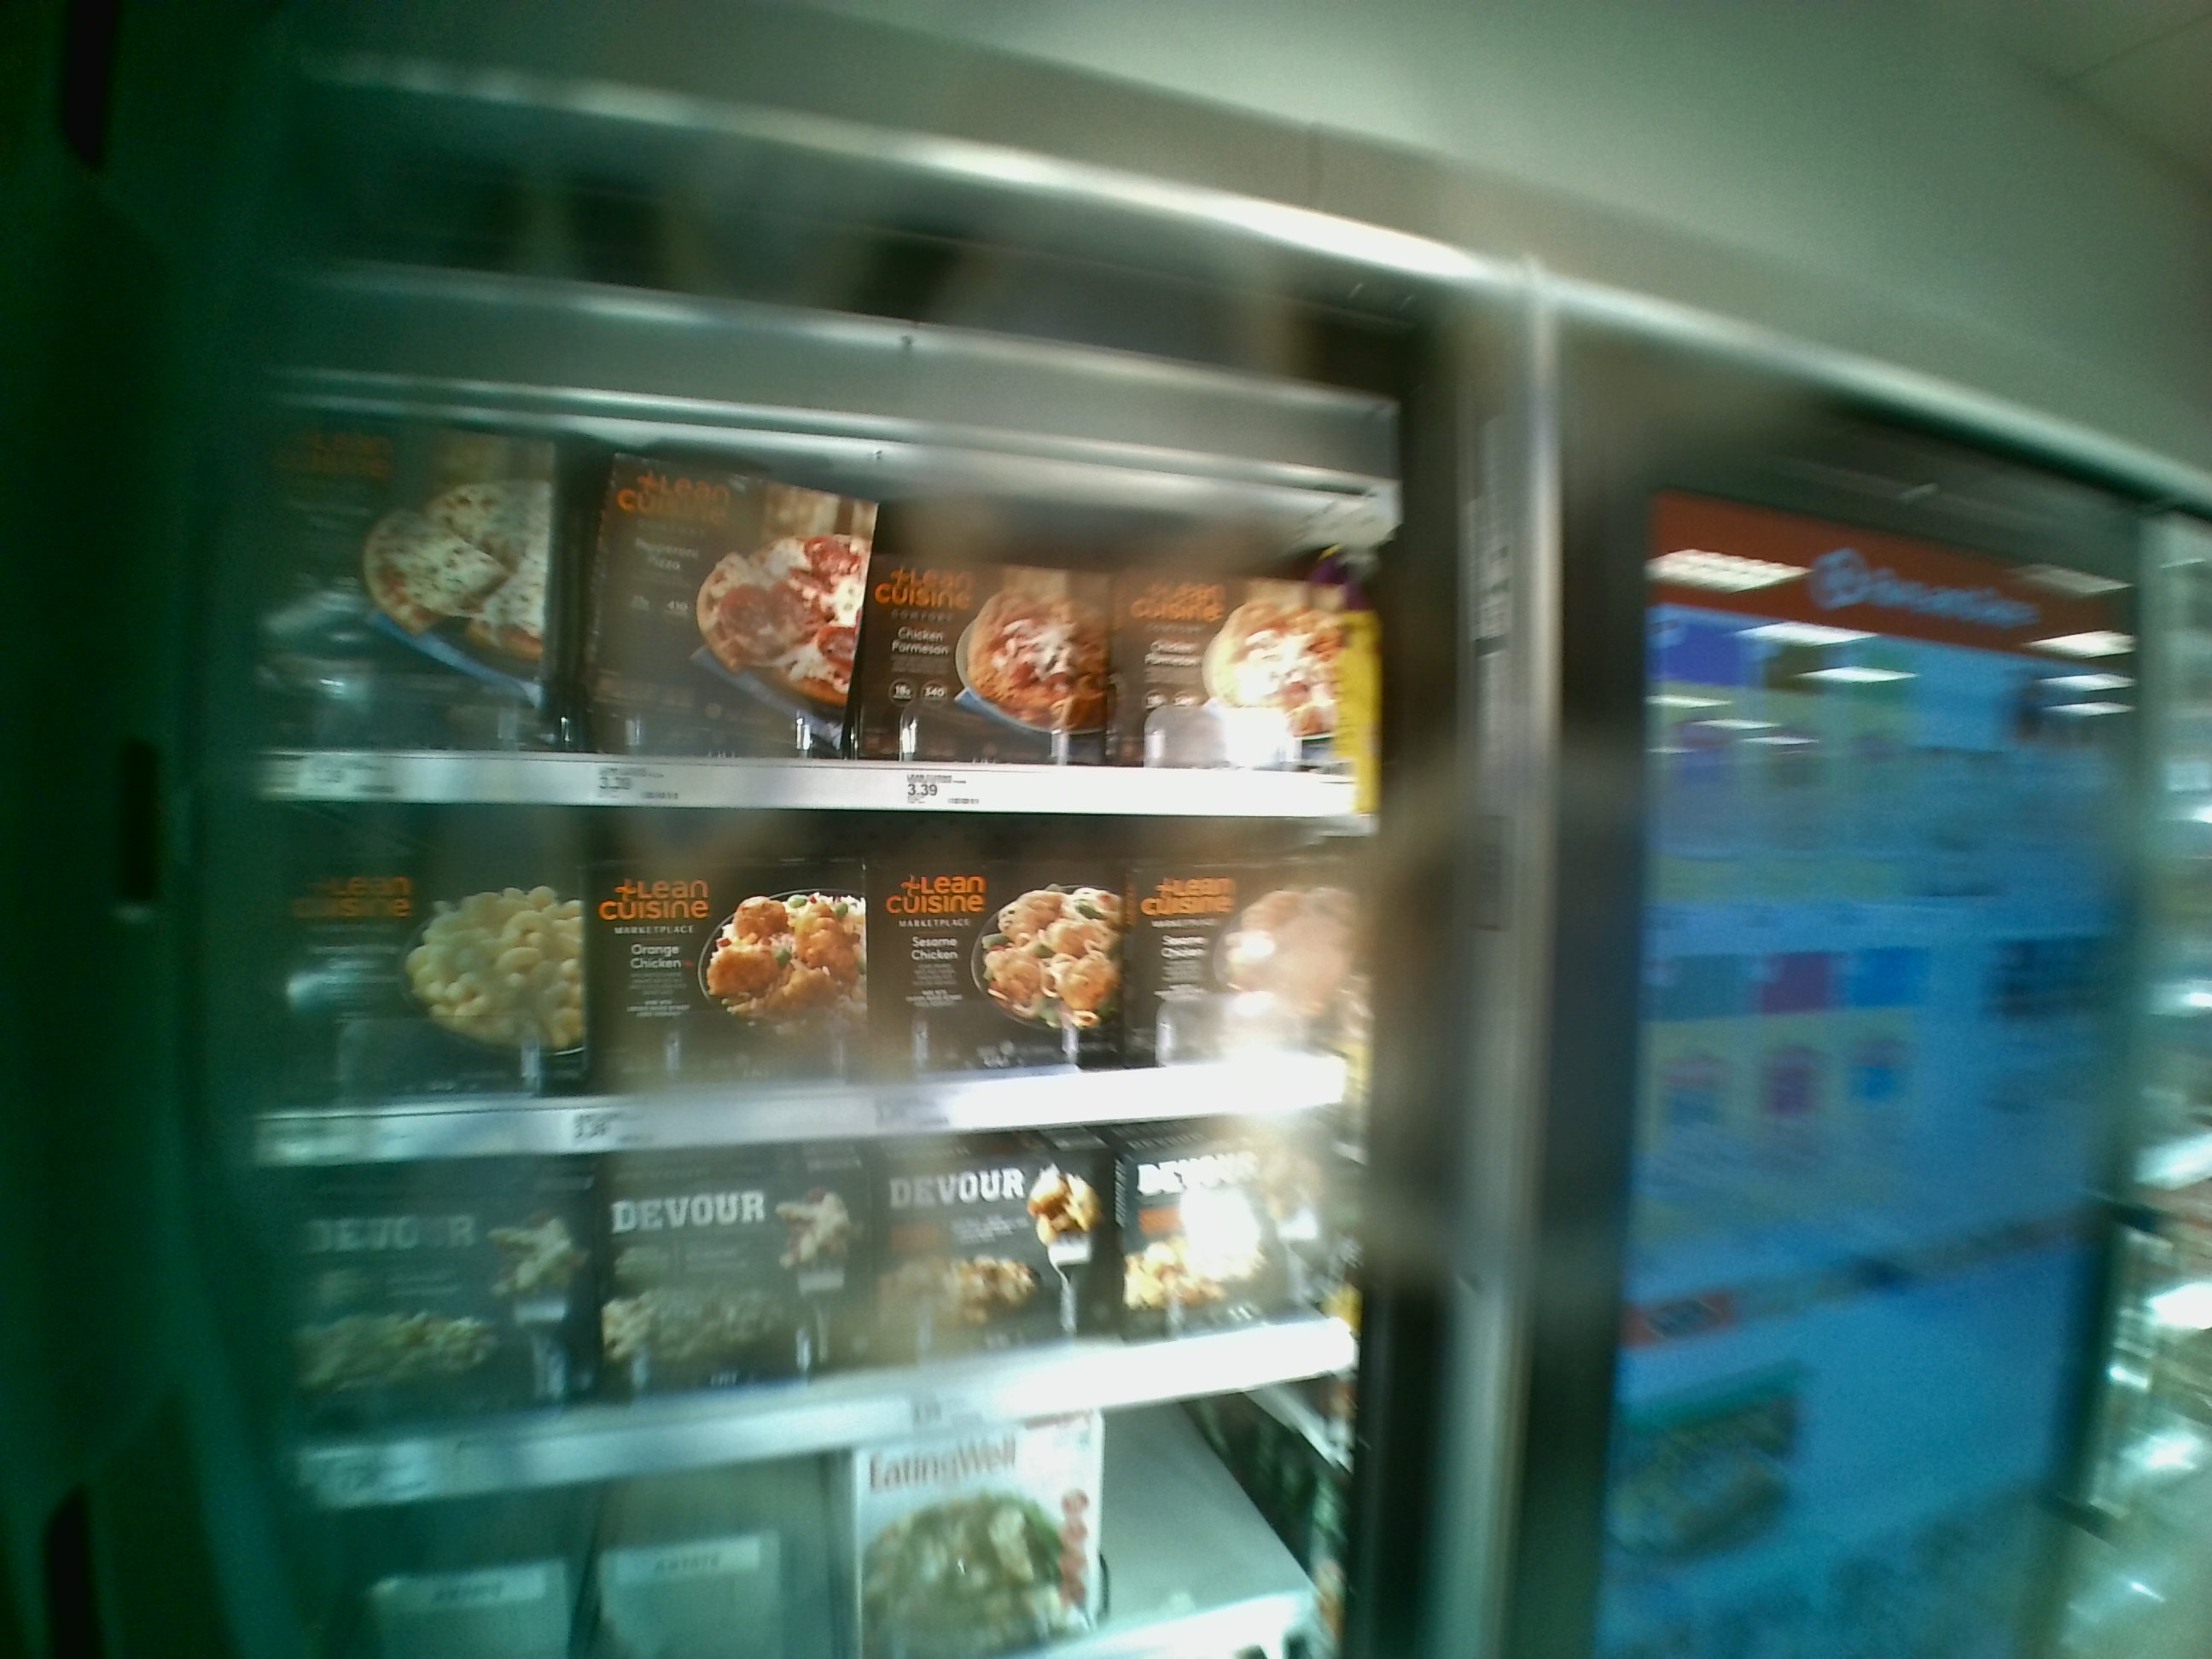shelf: (246, 380, 1378, 812), (235, 802, 1395, 1162)
